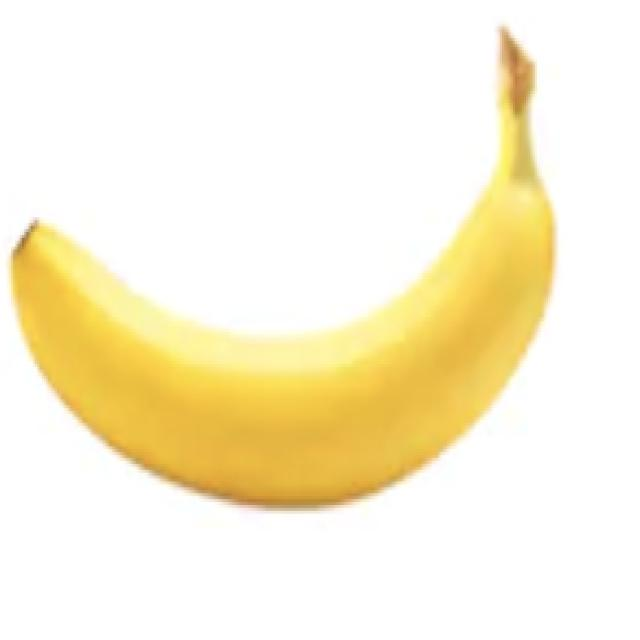fresh-banana: (6, 23, 556, 508)
